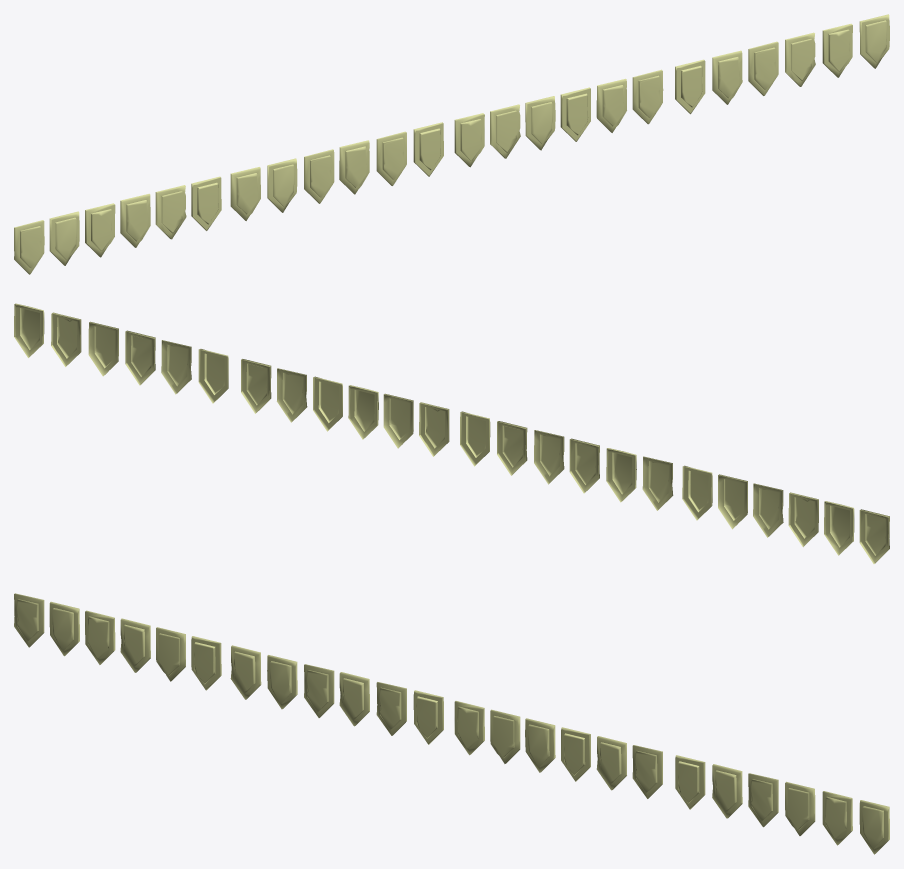
File: Ornament_shield_1c.fbx
The picture shows the model from 3 angles, top to bottom: view 1: azimuth 30°, elevation 25°; view 2: azimuth 150°, elevation 25°; view 3: azimuth 330°, elevation 25°; orthographic projection.
Visible parts, largest first — view 1: Ornament_shield_1c_LOD0; view 2: Ornament_shield_1c_LOD0; view 3: Ornament_shield_1c_LOD0.
Boxes of the visible parts, x1,y1,x2,y2 form: Ornament_shield_1c_LOD0: (14,14,889,274); Ornament_shield_1c_LOD0: (14,303,889,563); Ornament_shield_1c_LOD0: (14,593,889,854).
Size of what is drawn, in the model's own units: 713 by 40.47 by 4.7.
